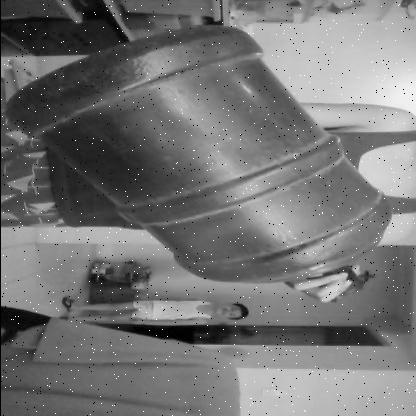Others: (6, 28, 390, 302)
